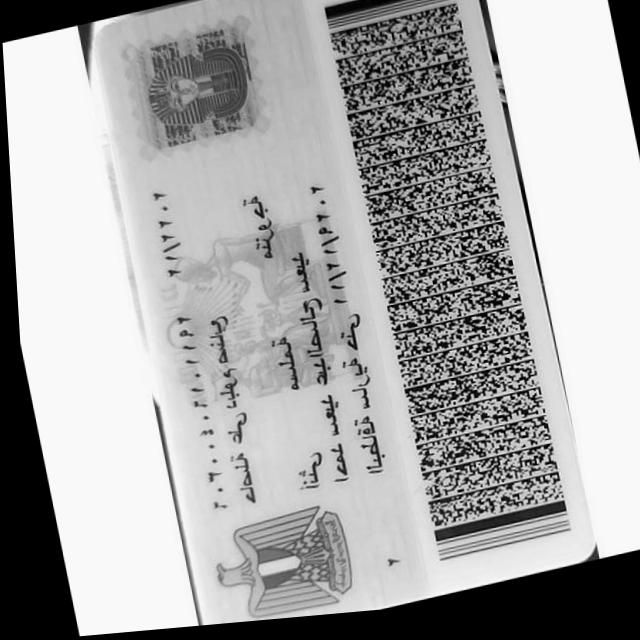id_card: (98, 0, 593, 625)
